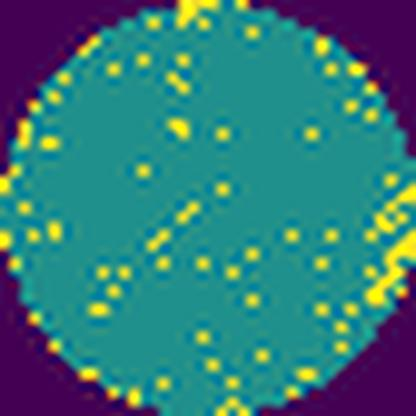Edge-Loc: (360, 223, 415, 307), (173, 0, 223, 29)
